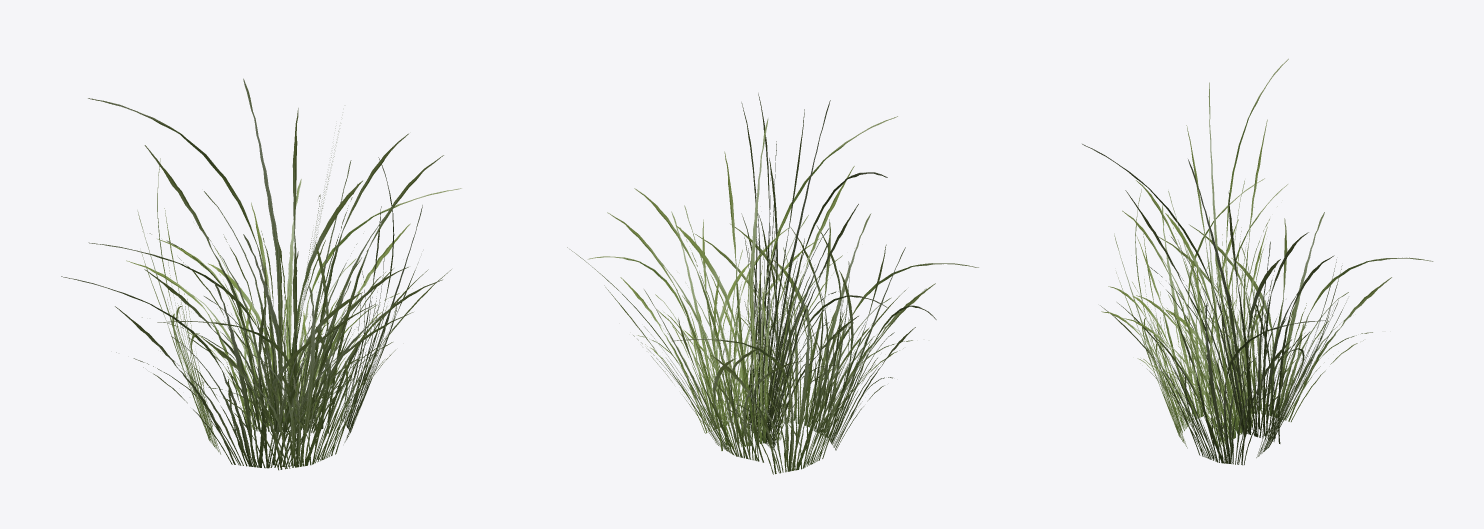
Rendered from grass_f.fbx.
3 renders of one model, left to right at view 1: azimuth 30°, elevation 25°; view 2: azimuth 150°, elevation 25°; view 3: azimuth 270°, elevation 25°, orthographic. The views are drawn at different scales.
Parts seen in each view (by area): view 1: grass_f; view 2: grass_f; view 3: grass_f.
Boxes of the visible parts, x1=… form: grass_f: x1=61, y1=78, x2=461, y2=470; grass_f: x1=567, y1=93, x2=978, y2=474; grass_f: x1=1082, y1=58, x2=1433, y2=465.
Size of the model in its own units: 68.77 by 54.15 by 61.19.
Materials: 1 (1 with a texture image).
